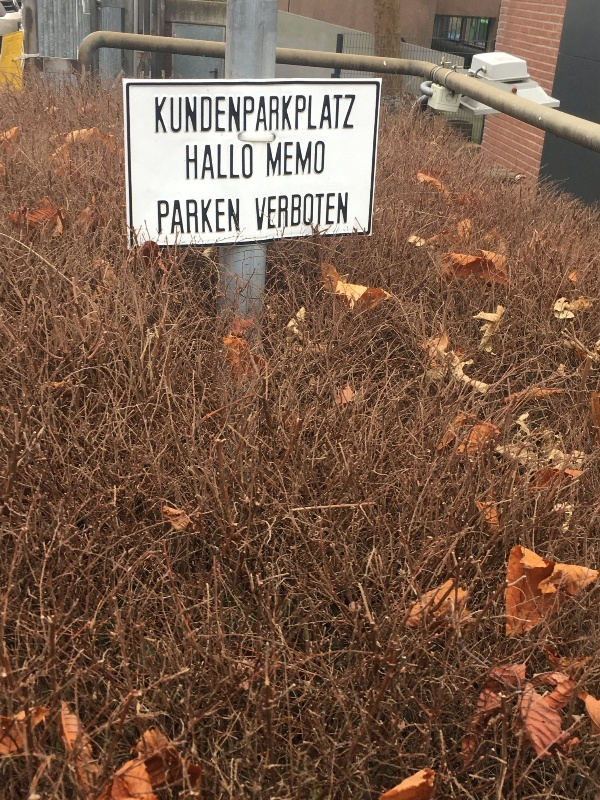text: (161, 94, 176, 135), (177, 94, 192, 135), (193, 94, 208, 135), (209, 94, 224, 135), (225, 94, 240, 135), (241, 94, 256, 135), (257, 94, 272, 135), (273, 94, 288, 135), (289, 94, 304, 135), (305, 94, 320, 135), (321, 94, 336, 135), (337, 94, 352, 135), (257, 191, 272, 231), (273, 191, 288, 231), (289, 191, 304, 231), (305, 191, 320, 231), (321, 191, 336, 231), (273, 139, 288, 177), (289, 139, 304, 177), (305, 139, 320, 177), (161, 198, 176, 235), (177, 198, 192, 235), (193, 198, 208, 235), (209, 198, 224, 235), (225, 198, 240, 235), (193, 144, 208, 180), (209, 144, 224, 180), (225, 144, 240, 180), (337, 191, 349, 231), (241, 144, 253, 180), (186, 144, 192, 180), (155, 94, 160, 135), (321, 139, 326, 177), (268, 139, 272, 177), (353, 94, 356, 135), (158, 198, 160, 235), (255, 191, 256, 231)
